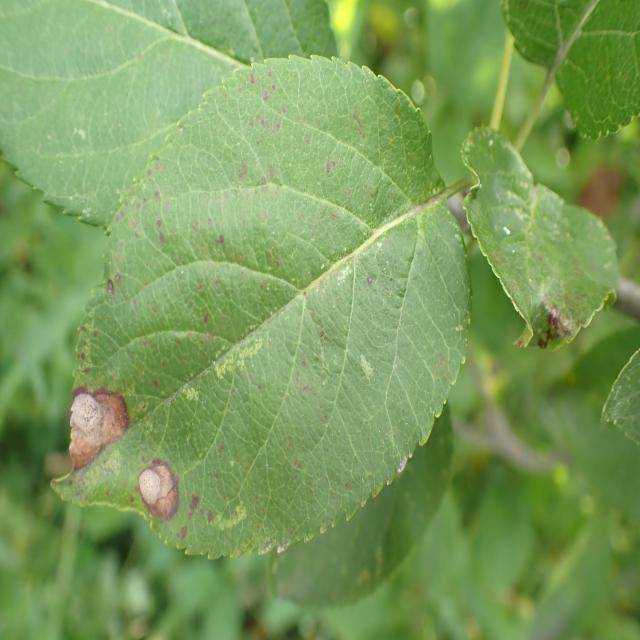Black Rot: (113, 441, 210, 554), (47, 358, 126, 491)
